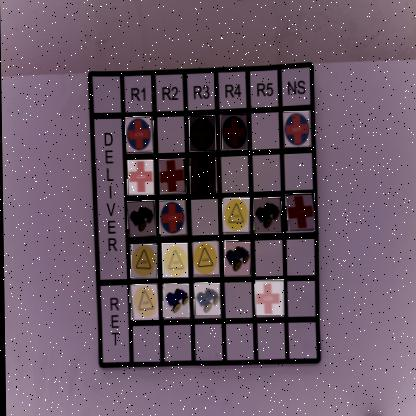OrderBlue: (160, 201, 189, 239), (126, 118, 156, 154), (221, 115, 249, 151), (284, 112, 311, 149), (190, 116, 217, 153)
OrderGurney: (253, 199, 284, 234), (128, 202, 157, 239), (162, 285, 191, 319), (225, 242, 252, 277), (194, 284, 221, 317)
OrderRed: (286, 195, 316, 233), (255, 281, 286, 317), (191, 157, 217, 196), (128, 161, 155, 197), (160, 160, 187, 194)
OrderYellow: (130, 285, 160, 322), (223, 199, 252, 234), (162, 244, 189, 279), (131, 246, 158, 280), (194, 242, 220, 276)
